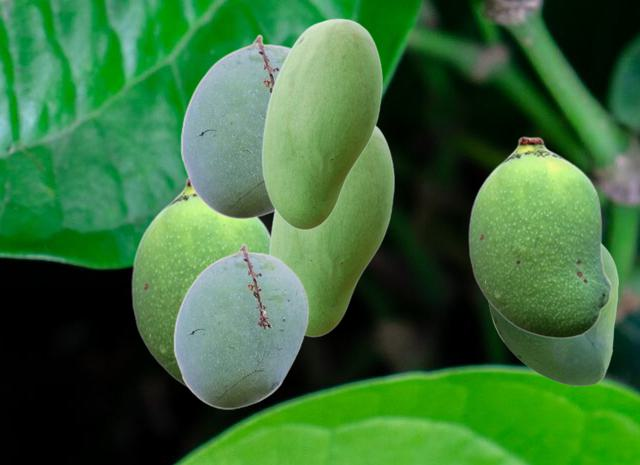green_mango: (131, 177, 270, 389), (468, 136, 611, 338), (268, 126, 393, 336), (261, 18, 381, 229), (173, 243, 308, 408), (180, 34, 290, 218), (487, 244, 617, 385)
